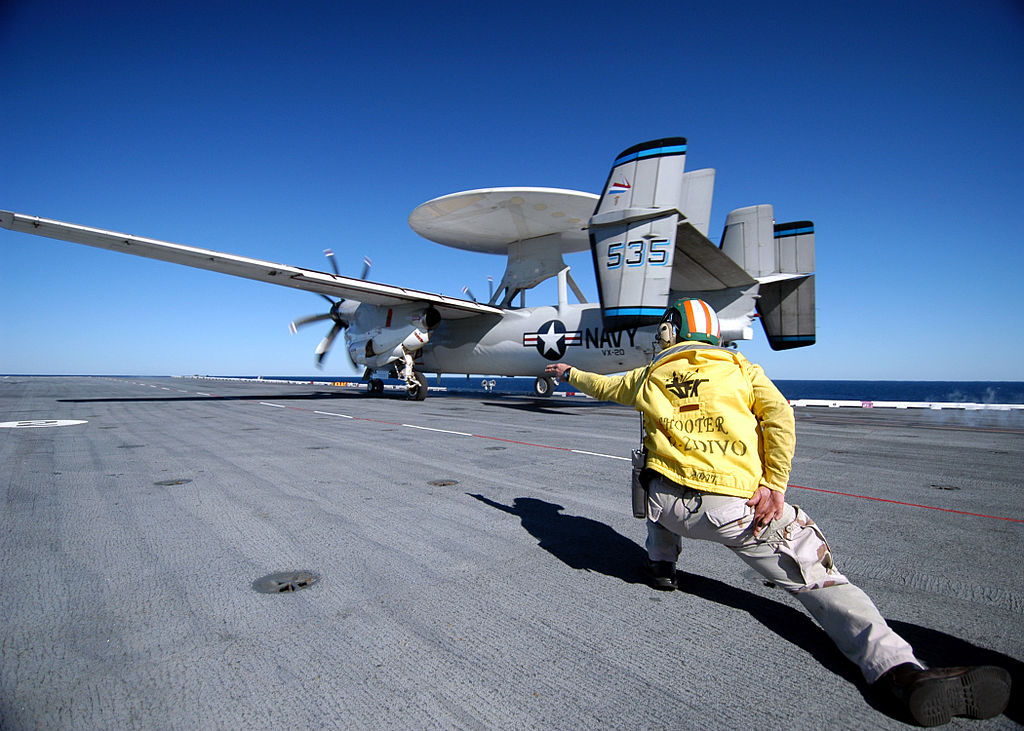E2: (1, 136, 820, 401)
